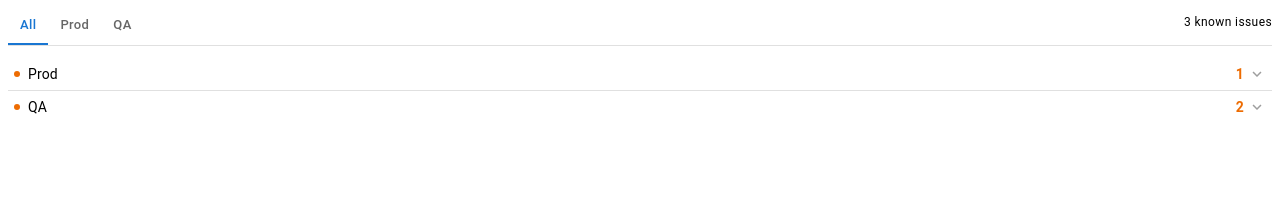
Test: KnownIssuesPanel › renders Jira keys as plain text when no base URL is configured
Click the button with aria-label "QA:": (17, 107) x1=8 y1=91 x2=1272 y2=123
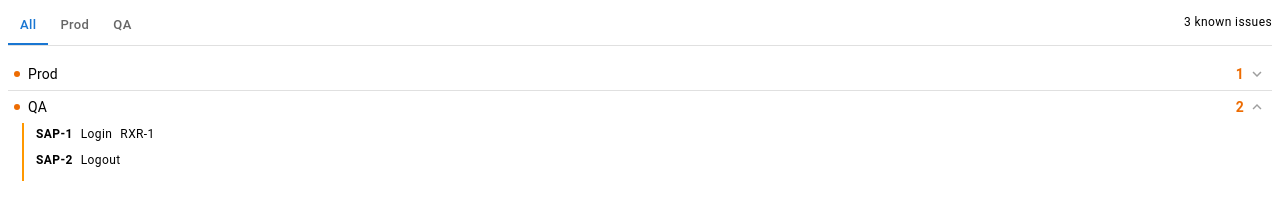
Expected: the text "RXR-1" is shown, x1=120 y1=125 x2=155 y2=145
